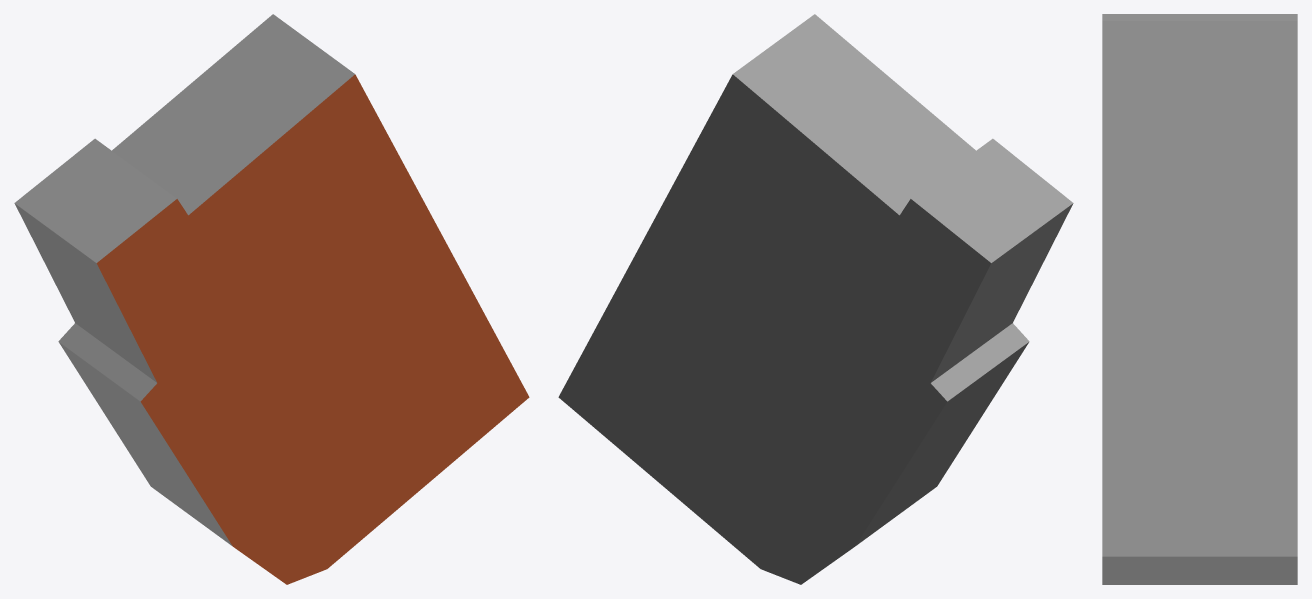
The model's file is construction_3612_assumed_A_Casa_h6m.obj.
The picture shows the model from 3 angles, left to right: view 1: azimuth 30°, elevation 25°; view 2: azimuth 150°, elevation 25°; view 3: azimuth 270°, elevation 25°; orthographic projection. The views are drawn at different scales.
Visible parts, largest first — view 1: construction_3612_assumed_A_Casa; view 2: construction_3612_assumed_A_Casa; view 3: construction_3612_assumed_A_Casa.
Boxes of the visible parts, left/top/right/bottom form: construction_3612_assumed_A_Casa: left=14, top=14, right=529, bottom=584; construction_3612_assumed_A_Casa: left=558, top=14, right=1073, bottom=584; construction_3612_assumed_A_Casa: left=1102, top=14, right=1297, bottom=584.
Bounding box in the file's own units: 18.25 × 19.9 × 6.
